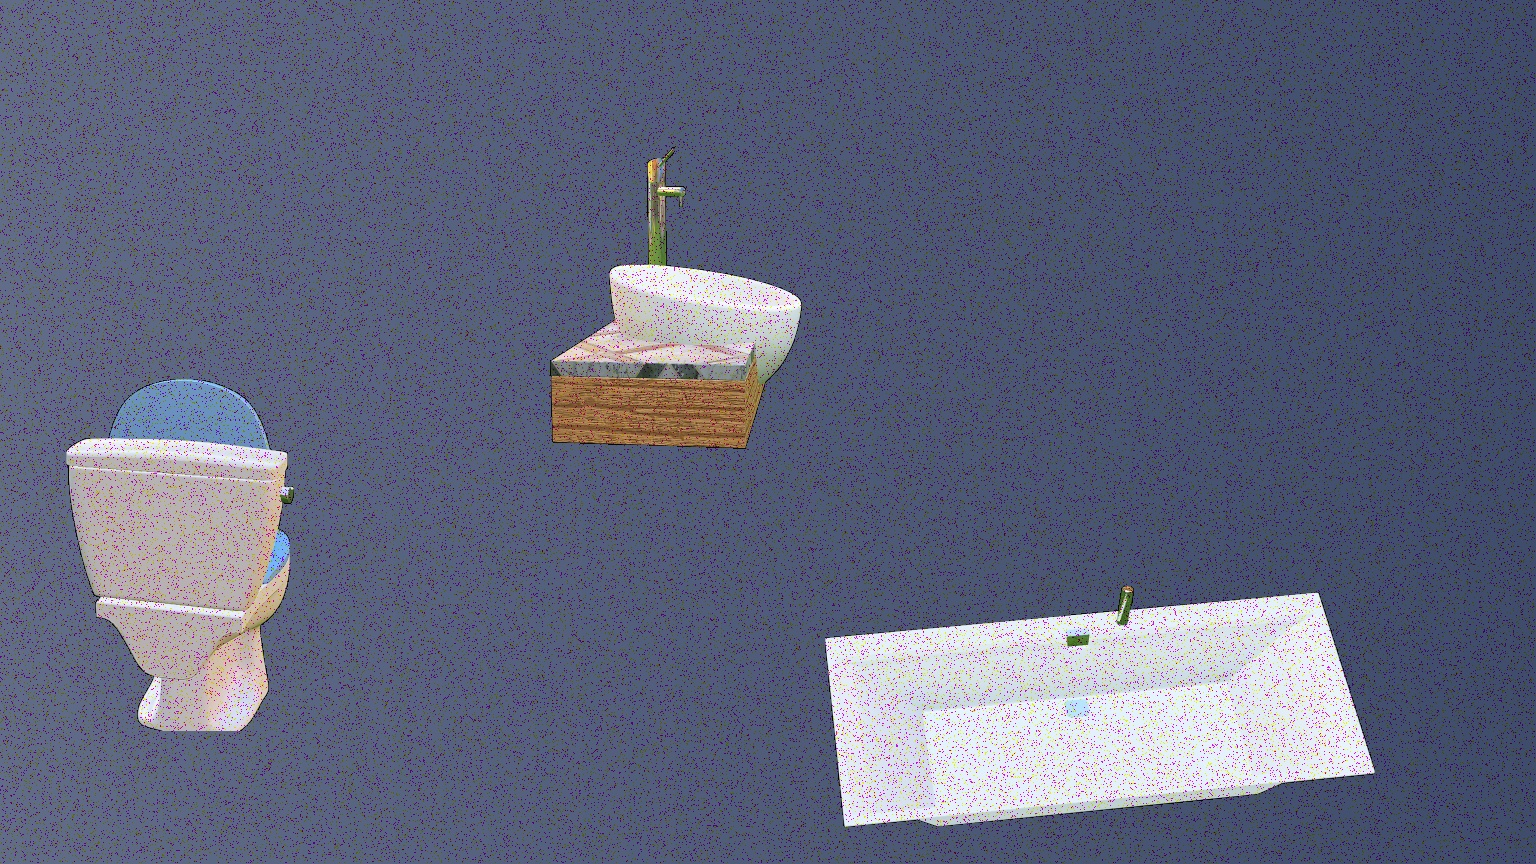banera: (824, 585, 1376, 828)
fregadero: (550, 147, 802, 449)
retrete: (65, 378, 295, 731)
